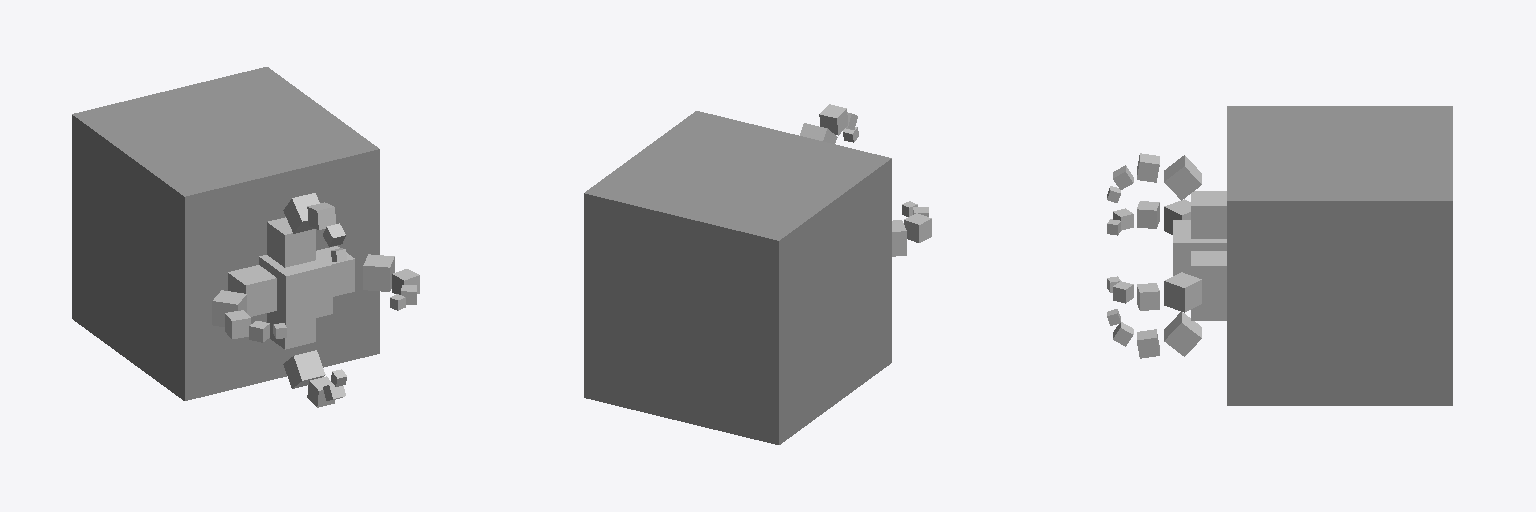
Rendered from laniaite_fabricator.obj.
The picture shows the model from 3 angles: view 1: azimuth 30°, elevation 25°; view 2: azimuth 150°, elevation 25°; view 3: azimuth 270°, elevation 25°; orthographic projection.
Visible parts, largest first — view 1: Cube, Cube.001_Cube.012; view 2: Cube, Cube.001_Cube.012; view 3: Cube, Cube.001_Cube.012.
Part boxes in pixels (x1,y1,x2,y2): Cube: (72,67,379,400); Cube.001_Cube.012: (212,193,419,407); Cube: (584,111,891,444); Cube.001_Cube.012: (800,104,931,256); Cube: (1227,106,1452,405); Cube.001_Cube.012: (1107,153,1226,358).
Bounding box in the file's own units: 0.5 × 0.5 × 0.767.